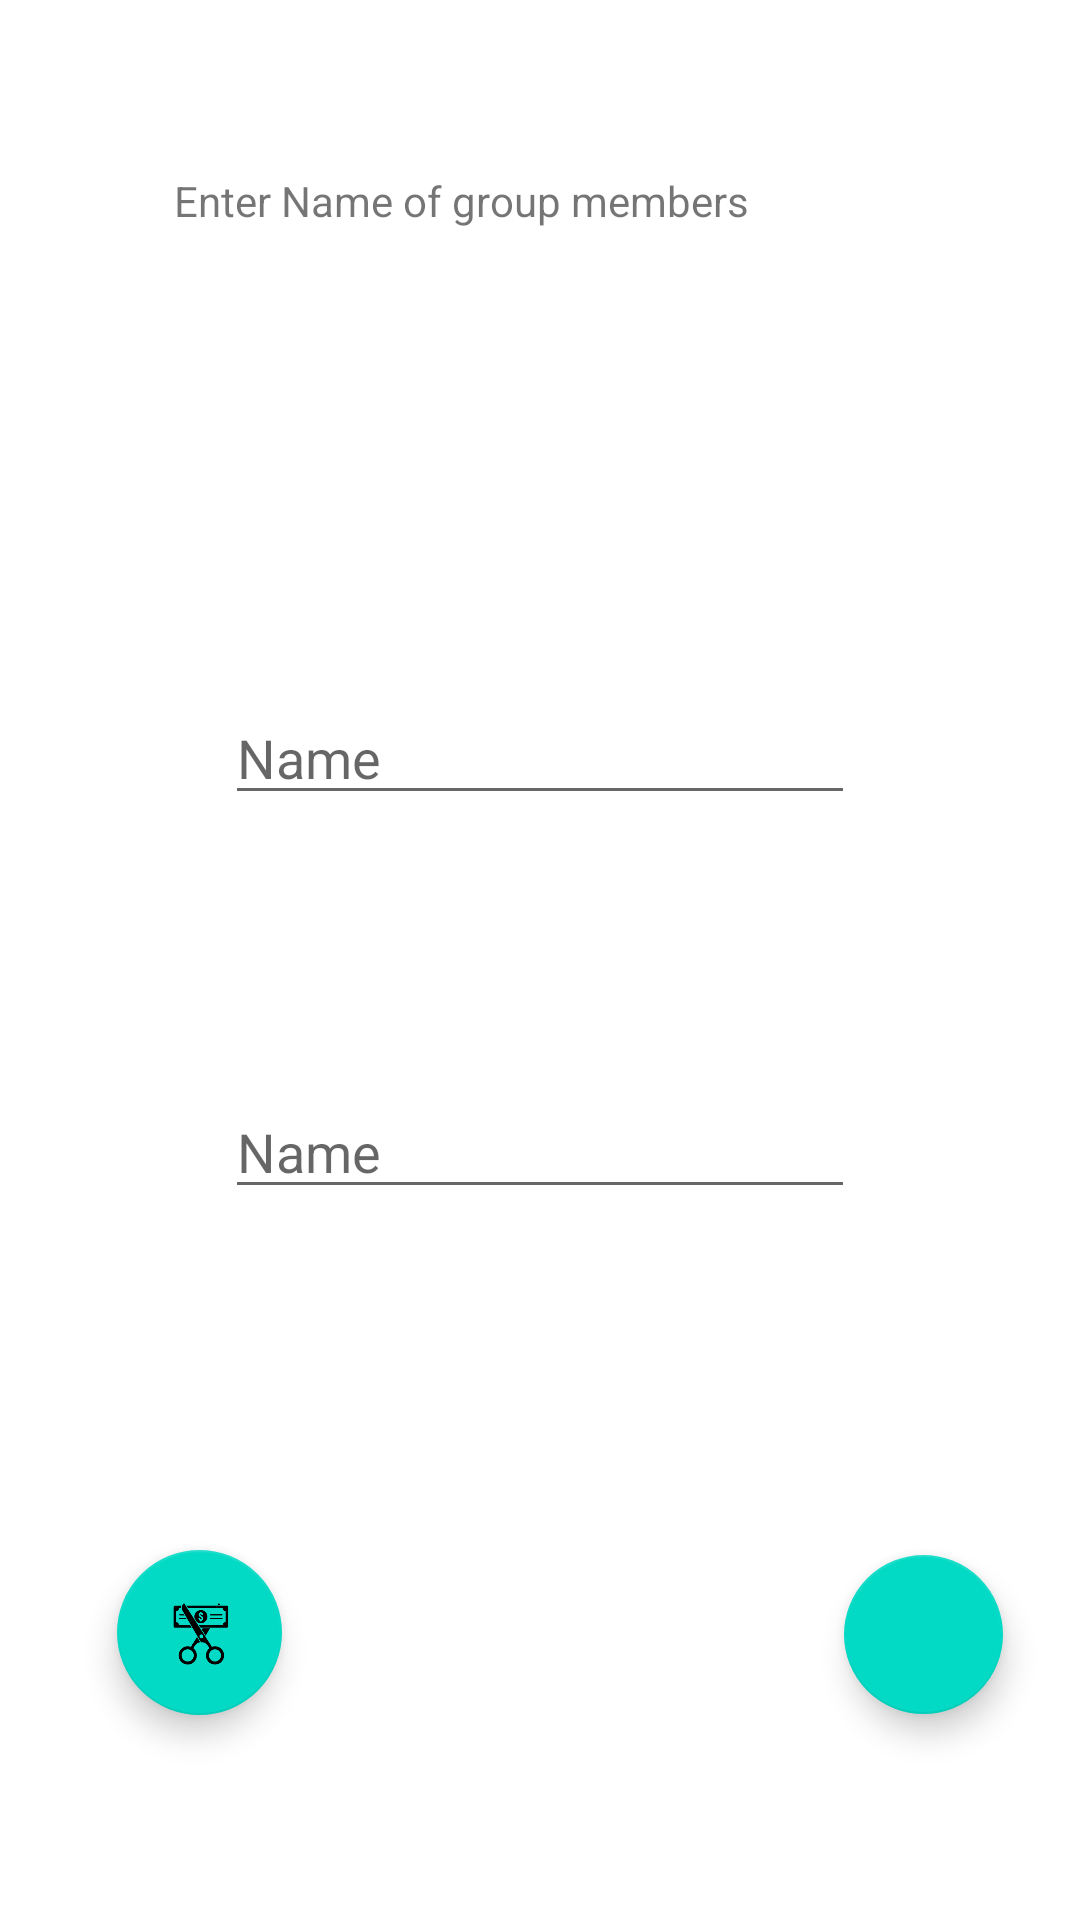

Named icons in this screenshot (1080×1920) and their centers, point (x, y):
split: point (199, 1632)
